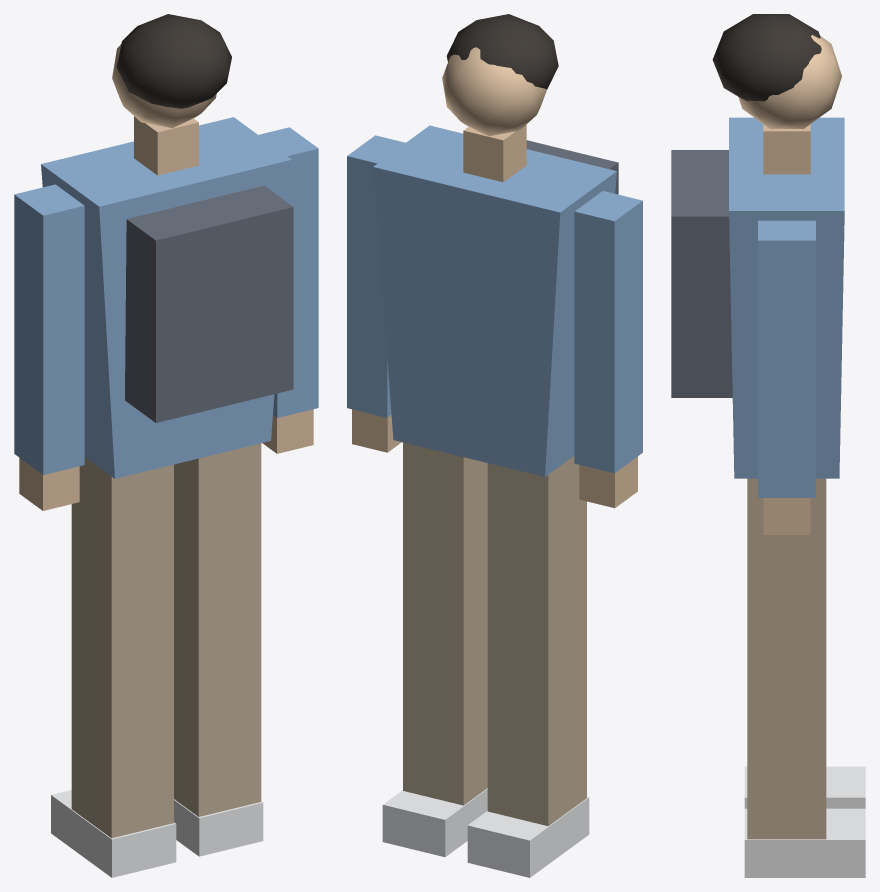
The model's file is ped_casual.glb.
3 views of the same model, side by side, from view 1: azimuth 30°, elevation 25°; view 2: azimuth 150°, elevation 25°; view 3: azimuth 270°, elevation 25° (orthographic). The views are drawn at different scales.
Visible parts, largest first — view 1: Body, LegL, LegR; view 2: Body, LegL, LegR; view 3: Body, LegR, LegL.
Boxes of the visible parts, <box> form: Body: <box>14,14,318,510</box>; LegL: <box>51,457,176,877</box>; LegR: <box>174,443,263,856</box>; Body: <box>347,14,642,508</box>; LegL: <box>467,456,589,877</box>; LegR: <box>382,442,487,856</box>; Body: <box>671,14,844,534</box>; LegR: <box>744,478,865,877</box>; LegL: <box>744,766,865,808</box>.
Bounding box in the file's own units: 0.6 × 1.73 × 0.37.
